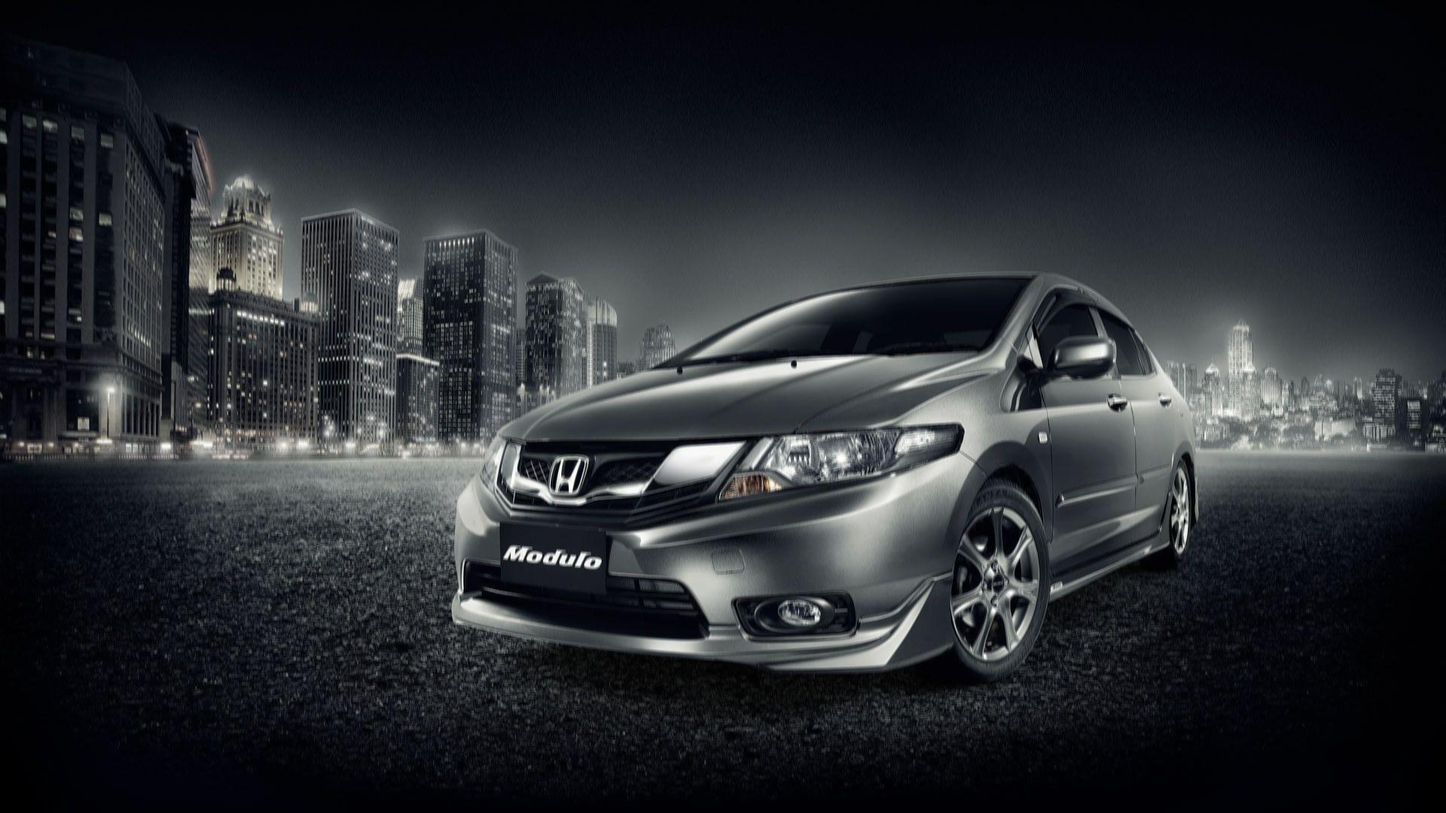Car hood: (491, 351, 978, 444)
Fender - -F-L-: (798, 341, 1057, 565)
Front bumper: (434, 469, 991, 677)
Headlight - -L-: (714, 418, 965, 512)
Headlight - -R-: (472, 424, 526, 500)
Passenger-s door - -F-L-: (1051, 281, 1141, 572)
Passenger-s door - -R-L-: (1114, 308, 1186, 551)
Side bumper - -L-: (1041, 523, 1187, 608)
Side mirror - -L-: (1037, 330, 1123, 404)
